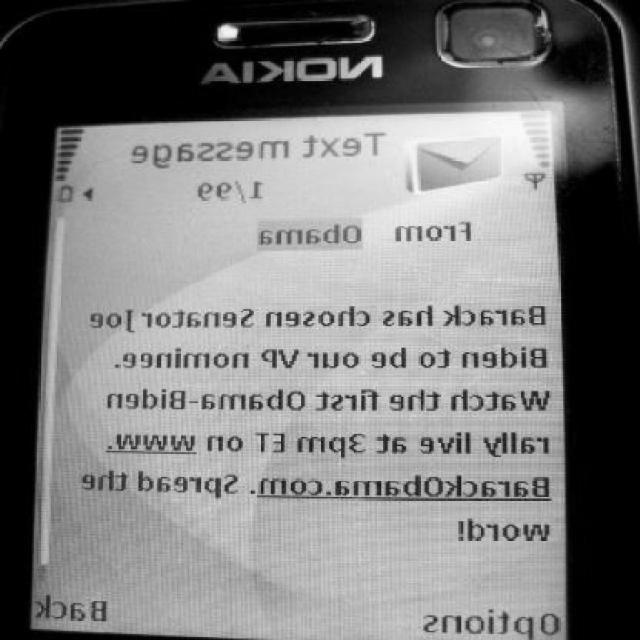fake: (14, 0, 630, 640)
